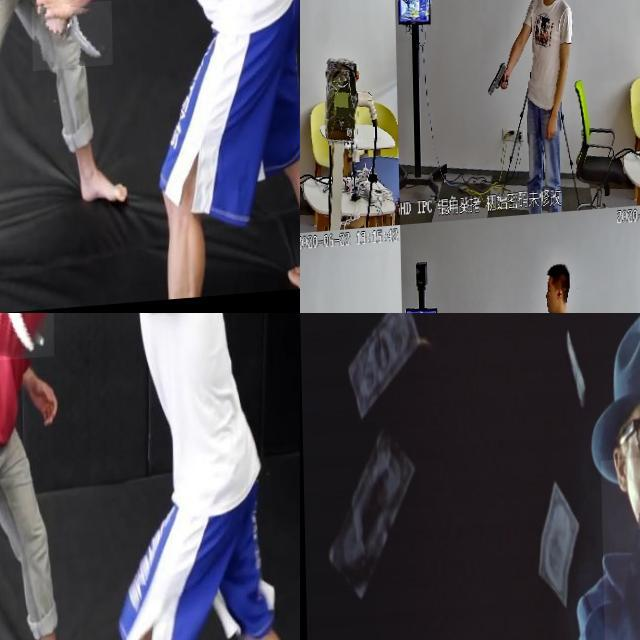-: (30, 6, 111, 76), (0, 313, 53, 374)
gun-knife-thesis - v11 Yolov5 augmented: (484, 66, 508, 102), (300, 10, 313, 46), (300, 286, 310, 313)
